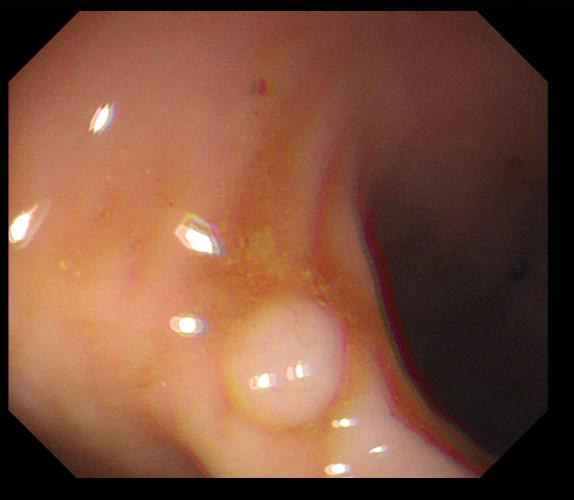polyp: (224, 294, 341, 434)
